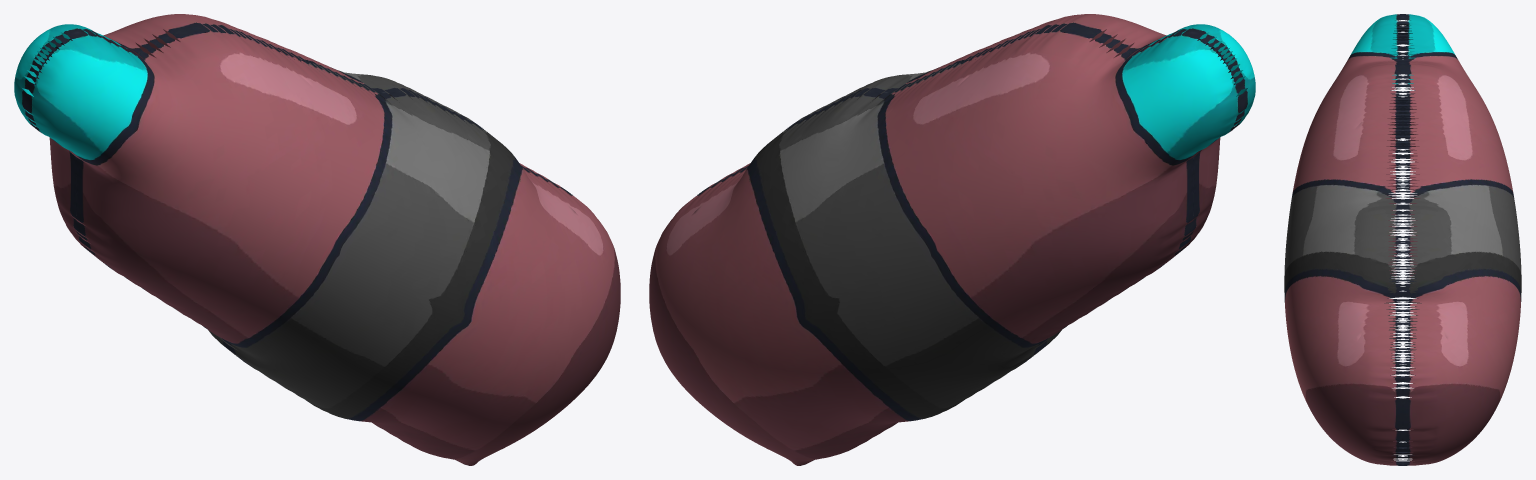
The model's file is banded_conduit.glb.
3 renders of one model, left to right at view 1: azimuth 30°, elevation 25°; view 2: azimuth 150°, elevation 25°; view 3: azimuth 270°, elevation 25°, orthographic. The views are drawn at different scales.
Visible parts, largest first — view 1: banded_conduit; view 2: banded_conduit; view 3: banded_conduit.
Part boxes in pixels (left/top/right/bottom): banded_conduit: left=14, top=14, right=620, bottom=465; banded_conduit: left=649, top=14, right=1255, bottom=465; banded_conduit: left=1284, top=14, right=1521, bottom=465.
Size of the model in its own units: 0.989 by 0.8307 by 0.5486.
Materials: 1 (1 with a texture image).
